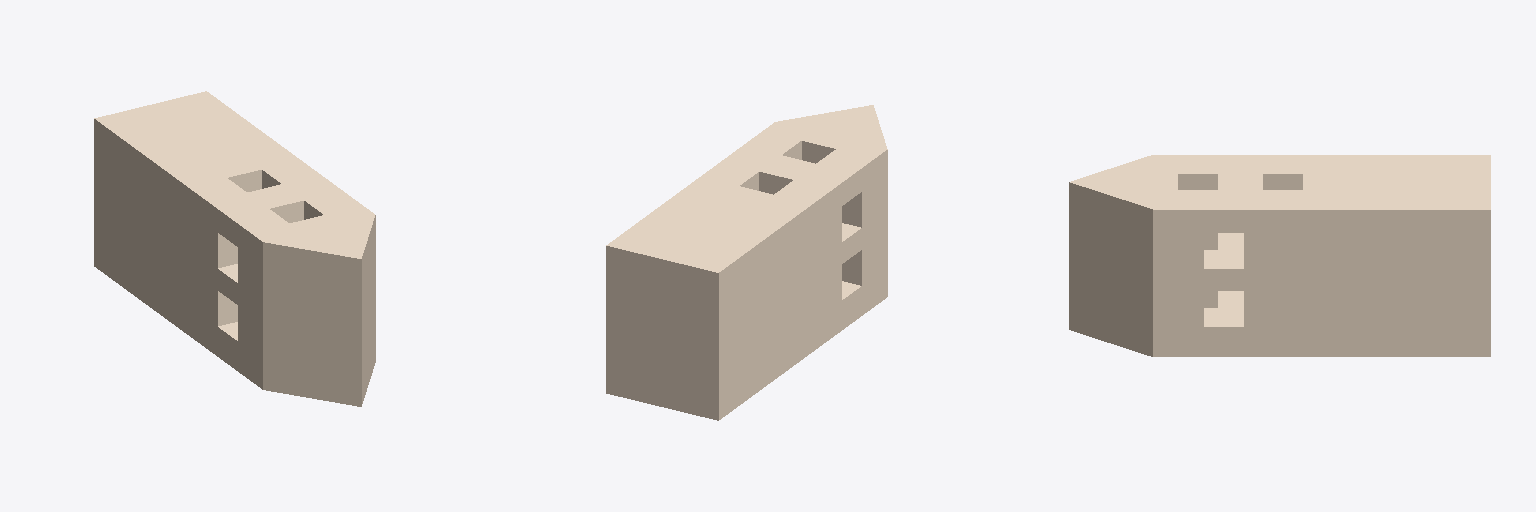
File: tinker.obj
The picture shows the model from 3 angles: view 1: azimuth 30°, elevation 25°; view 2: azimuth 150°, elevation 25°; view 3: azimuth 270°, elevation 25°; orthographic projection.
Visible parts, largest first — view 1: obj_0; view 2: obj_0; view 3: obj_0.
Boxes of the visible parts, x1,y1,x2,y2 form: obj_0: [94, 91, 375, 406]; obj_0: [606, 105, 887, 420]; obj_0: [1069, 155, 1490, 356].
Size of the model in its own units: 20 by 25.11 by 65.